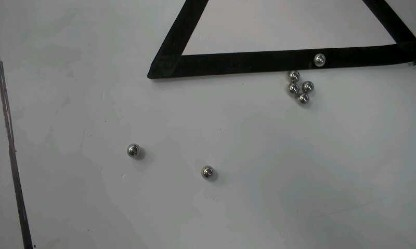ironball: (126, 143, 140, 157), (200, 165, 213, 179), (301, 80, 313, 93), (287, 82, 299, 95), (288, 69, 299, 82), (297, 93, 308, 104), (315, 54, 325, 66)
